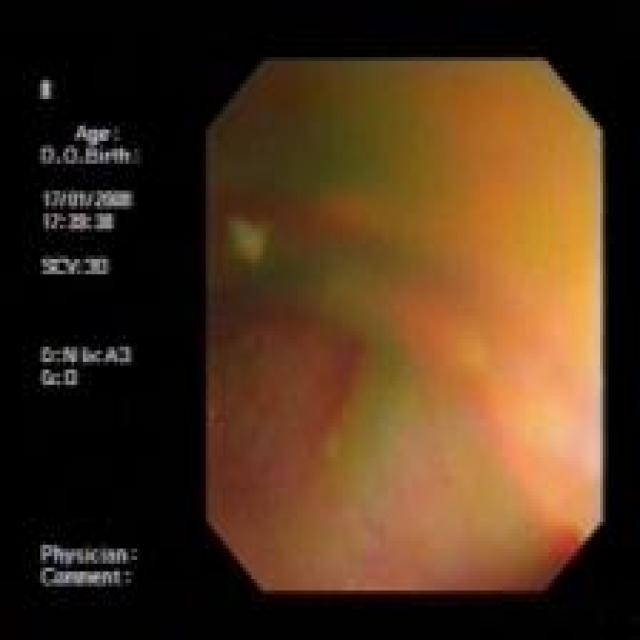color misalignment: (207, 60, 601, 591), (36, 77, 141, 593)
